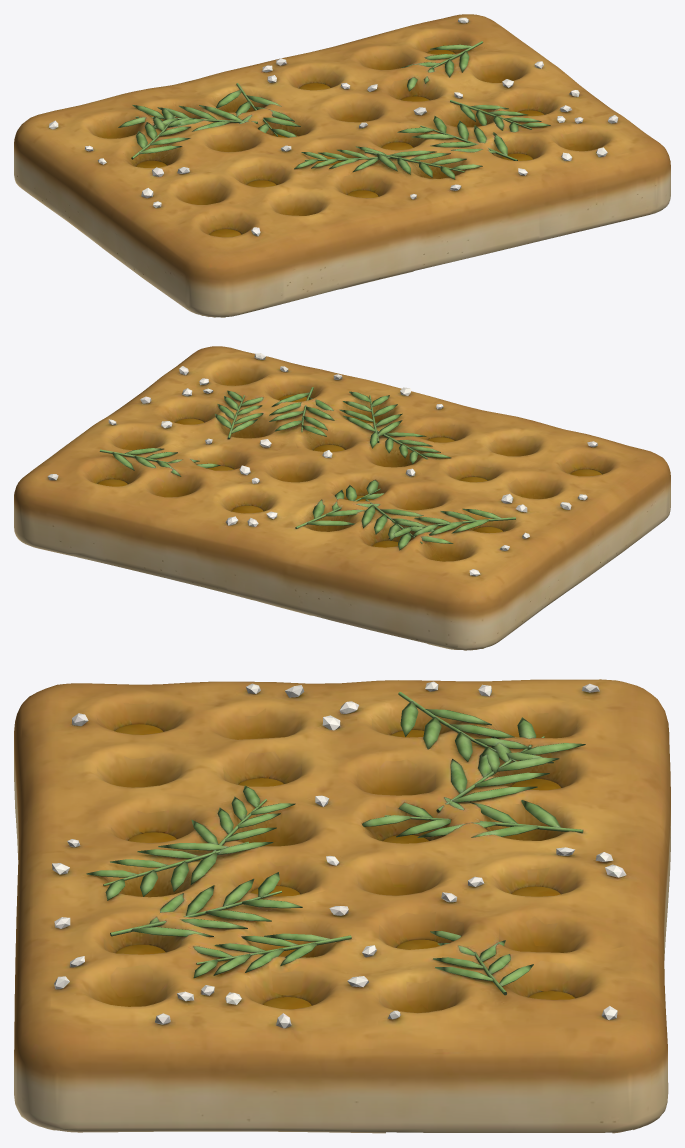
Rendered from focaccia--rosemary-sprig.glb.
3 views of the same model, one above another, from view 1: azimuth 30°, elevation 25°; view 2: azimuth 150°, elevation 25°; view 3: azimuth 270°, elevation 25° (orthographic). The views are drawn at different scales.
Parts seen in each view (by area): view 1: focaccia_rosemary-sprig; view 2: focaccia_rosemary-sprig; view 3: focaccia_rosemary-sprig.
Part boxes in pixels (x1=…): focaccia_rosemary-sprig: x1=14, y1=14, x2=670, y2=317; focaccia_rosemary-sprig: x1=14, y1=346, x2=670, y2=650; focaccia_rosemary-sprig: x1=14, y1=679, x2=670, y2=1133.
Bounding box in the file's own units: 1.01 × 0.1392 × 0.7442.
Materials: 1 (1 with a texture image).
